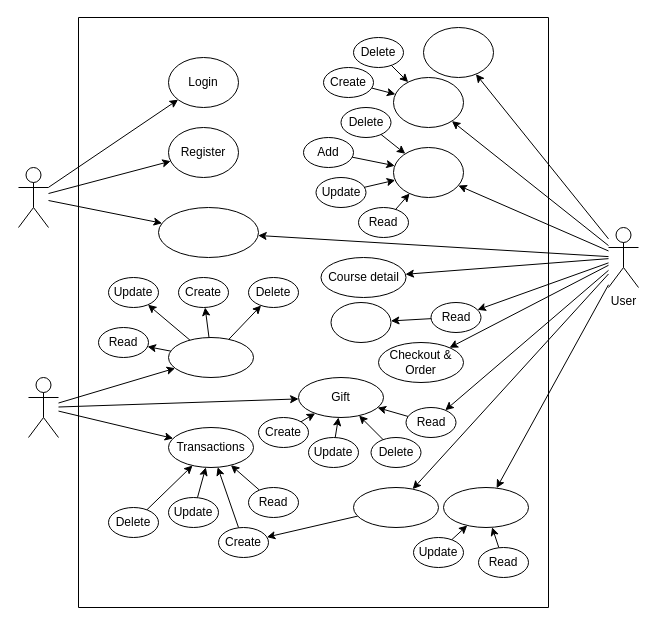
The diagram is 656 pixels wide and 625 high, and some of its shapes have lost their labels. Here are the shapes that lost their labels. From the top down, the centre of each, then its label:
At [458,52]: "My Course".
At [428,102]: "Favourite".
At [428,172]: "Cart".
At [33,197]: "Guest".
At [208,232]: "Read Landing Page".
At [360,322]: "Voucher".
At [211,357]: "Course".
At [43,407]: "Admin".
At [395,507]: "Payment".
At [485,507]: "Profile".
